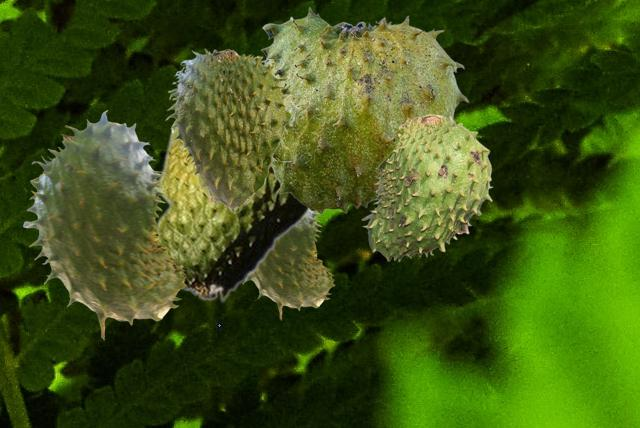guyabano: (260, 6, 468, 213), (23, 110, 186, 339), (156, 126, 310, 303), (165, 48, 299, 212), (361, 114, 492, 261), (242, 212, 334, 319)
